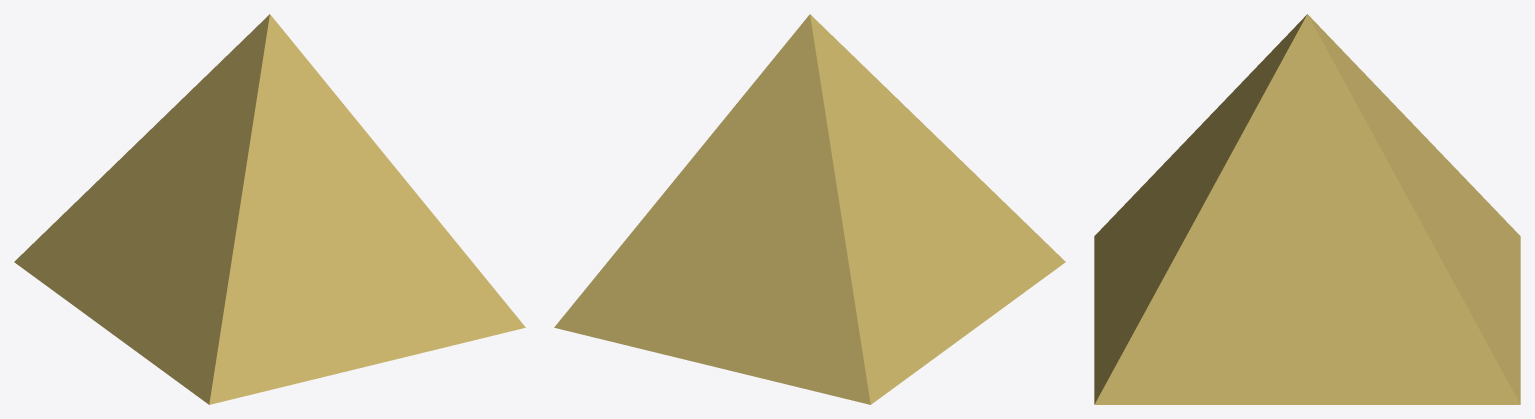
Rendered from The Great Pyramids of Giza.glb.
The picture shows the model from 3 angles, left to right: view 1: azimuth 30°, elevation 25°; view 2: azimuth 150°, elevation 25°; view 3: azimuth 270°, elevation 25°; orthographic projection. The views are drawn at different scales.
Visible parts, largest first — view 1: Mesh_Mesh_head_geo.001_lambert2SG.001; view 2: Mesh_Mesh_head_geo.001_lambert2SG.001; view 3: Mesh_Mesh_head_geo.001_lambert2SG.001.
Part boxes in pixels (x1,y1,x2,y2): Mesh_Mesh_head_geo.001_lambert2SG.001: (14, 14, 525, 404); Mesh_Mesh_head_geo.001_lambert2SG.001: (554, 14, 1065, 404); Mesh_Mesh_head_geo.001_lambert2SG.001: (1094, 14, 1520, 404).
Bounding box in the file's own units: 0.059 × 0.05 × 0.063.
